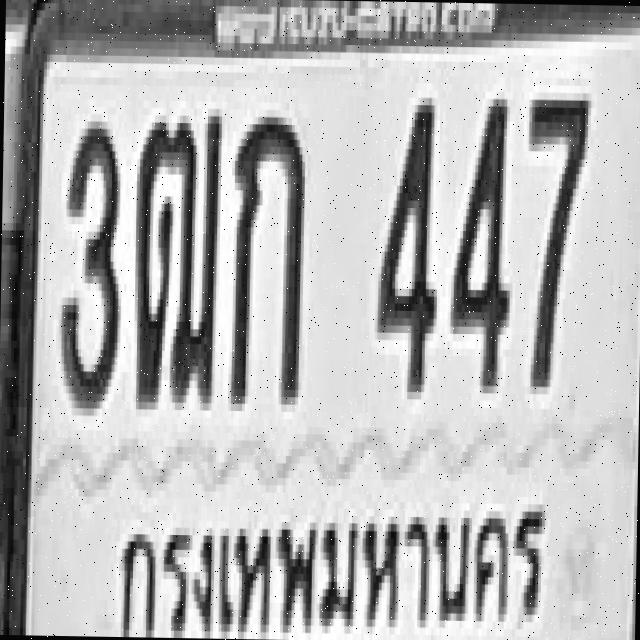10GorGai: (228, 108, 306, 404)
27ThorPhuThao: (132, 110, 222, 407)
3: (59, 117, 122, 412)
4: (449, 94, 513, 390), (374, 97, 438, 392)
7: (523, 91, 590, 388)
Bangkok: (115, 474, 551, 640)
